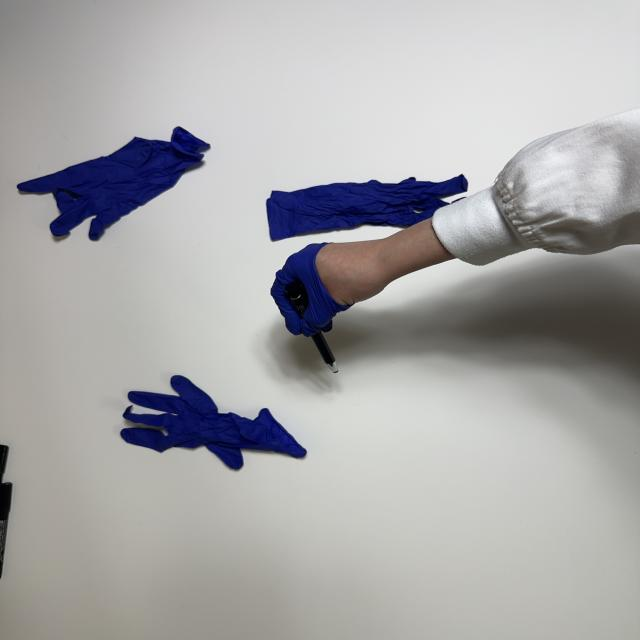glove_not_fitted: (268, 240, 392, 338)
